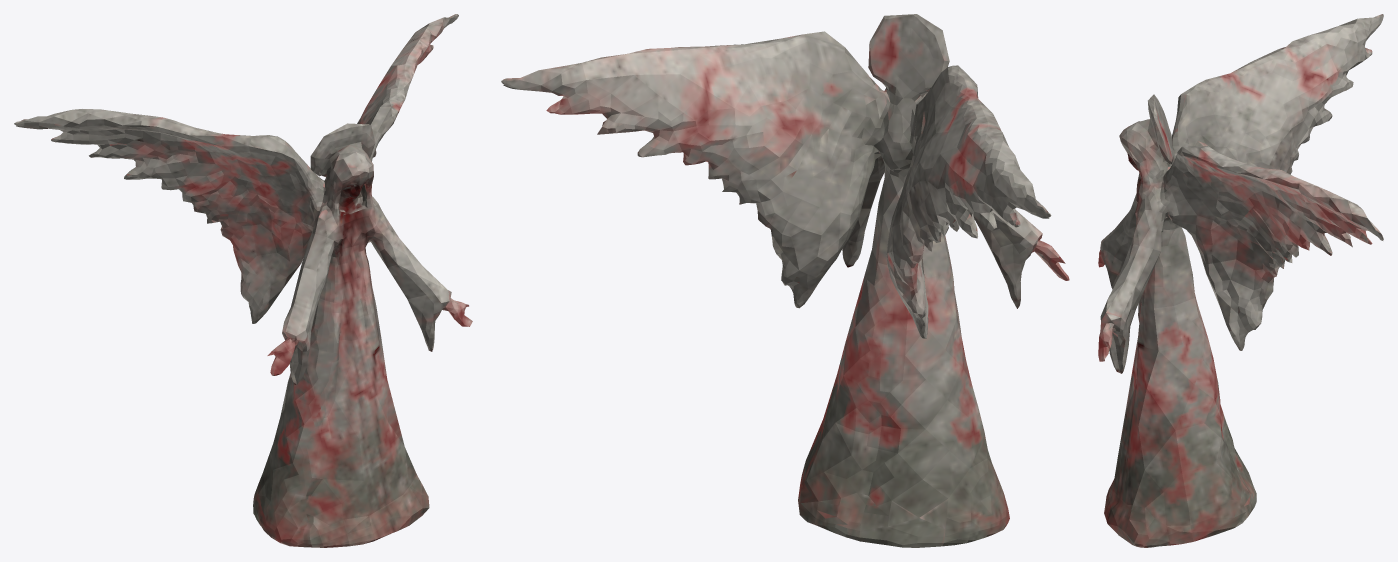
The model's file is Angel_statua.fbx.
The picture shows the model from 3 angles, left to right: view 1: azimuth 30°, elevation 25°; view 2: azimuth 150°, elevation 25°; view 3: azimuth 270°, elevation 25°; orthographic projection. The views are drawn at different scales.
Visible parts, largest first — view 1: Angel_statua; view 2: Angel_statua; view 3: Angel_statua.
Boxes of the visible parts, x1,y1,x2,y2 form: Angel_statua: (14,14,472,547); Angel_statua: (501,14,1069,547); Angel_statua: (1098,14,1383,547).
Bounding box in the file's own units: 203 × 176 × 109.
